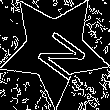N_NW: (24, 18, 85, 81)
